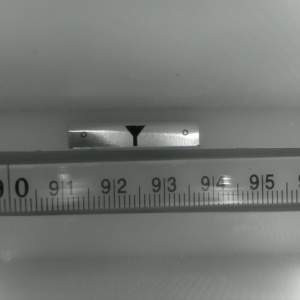0: (14, 178, 29, 198)
1: (66, 179, 73, 194)
2: (218, 176, 230, 189), (116, 178, 126, 193)
3: (166, 177, 176, 192)
5: (264, 174, 274, 189)
9: (49, 180, 59, 196), (100, 178, 110, 194), (150, 177, 160, 192), (248, 175, 258, 190), (199, 176, 209, 190)
finger: (122, 126, 145, 147)
